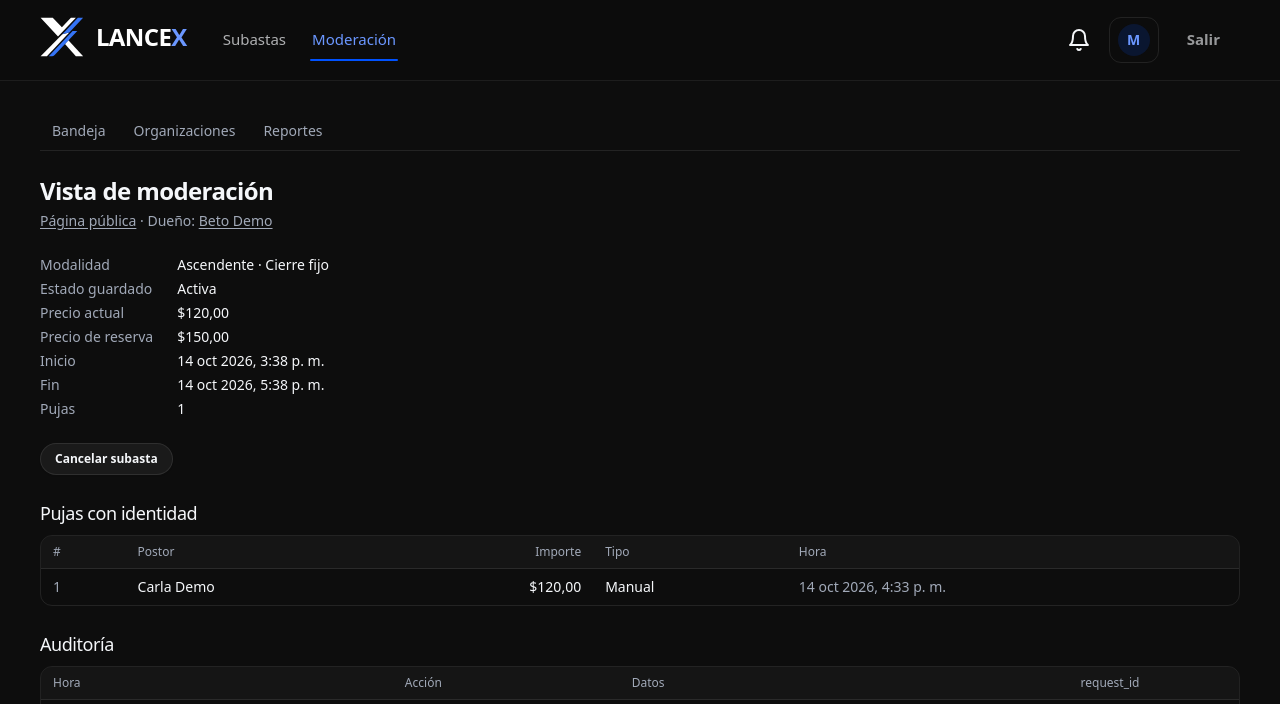
Test: moderación (LX-78) › vista de moderación: identidades, reserva, auditoría y cancelar con motivo
Check: the link "Carla Demo" is shown, box [138,577,215,596]
Check: the text "$150,00" is shown, box [177,327,229,346]
Click the button "Cancelar subasta": (106, 459) [40,443,173,475]
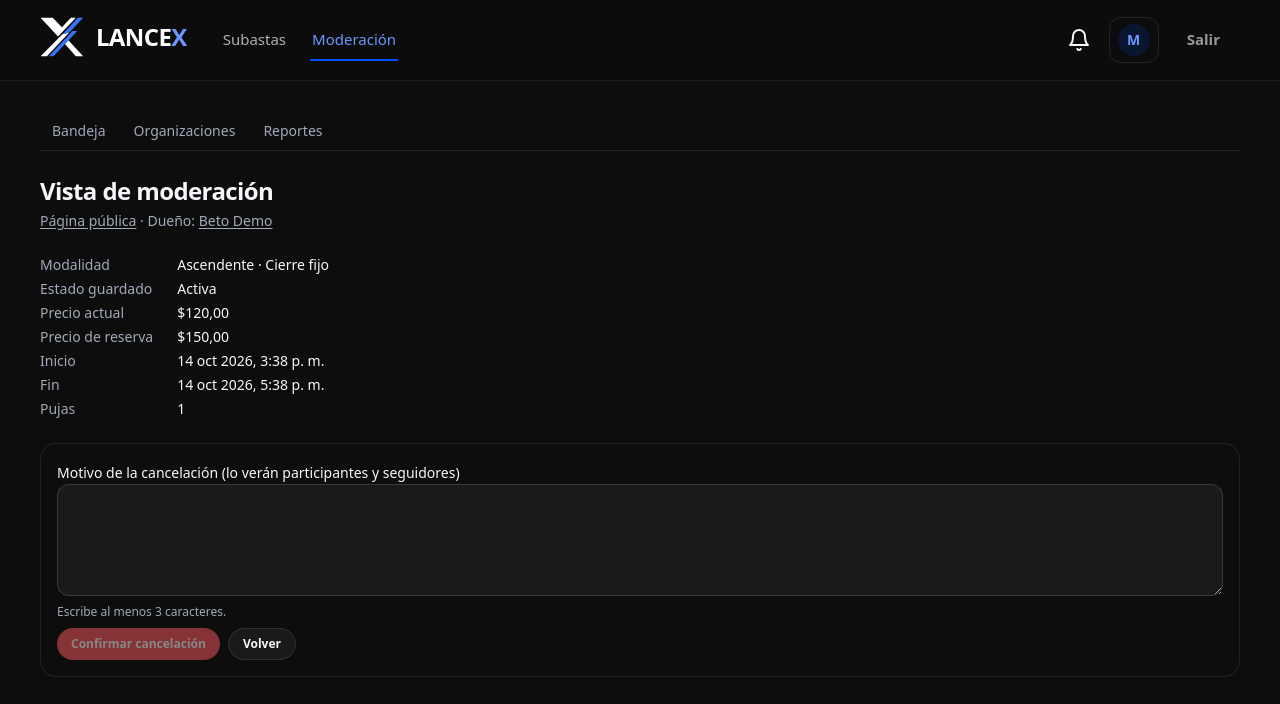
In the text box labelled "Motivo de la cancelación": (640, 540) [57,484,1223,596], type "Fraude"
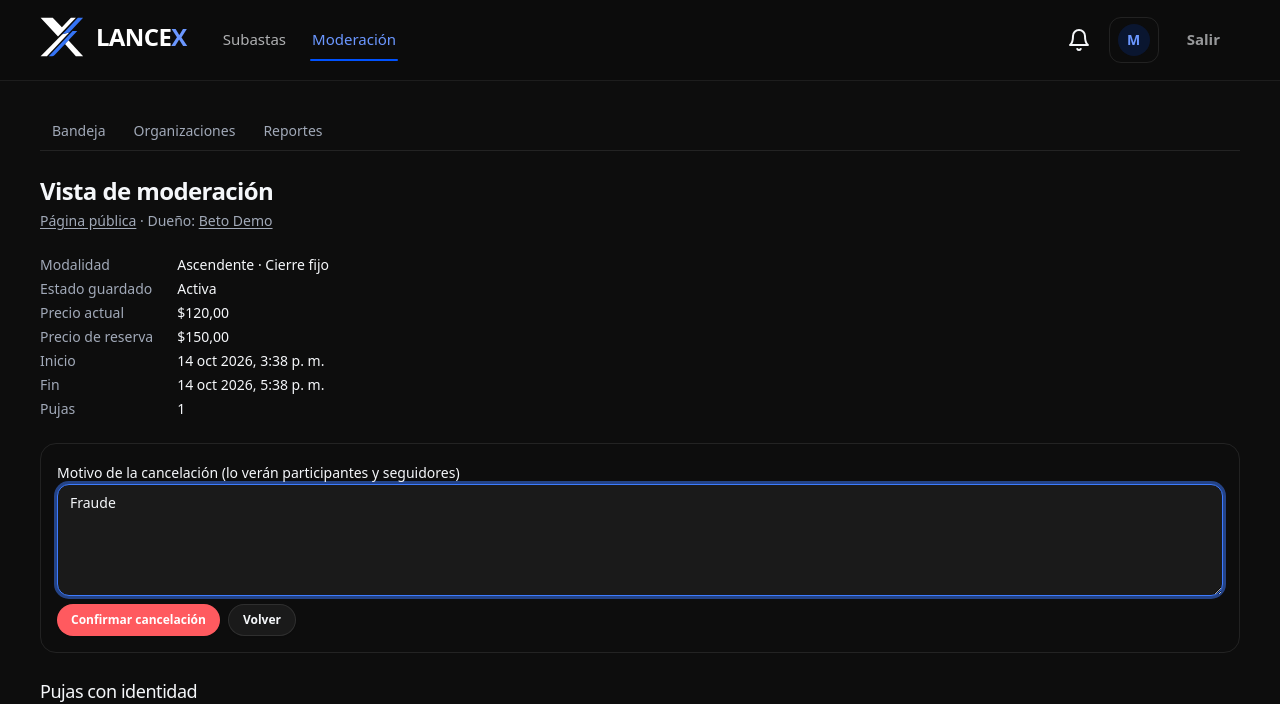
Click the button "Confirmar cancelación": (138, 620) [57,604,220,636]
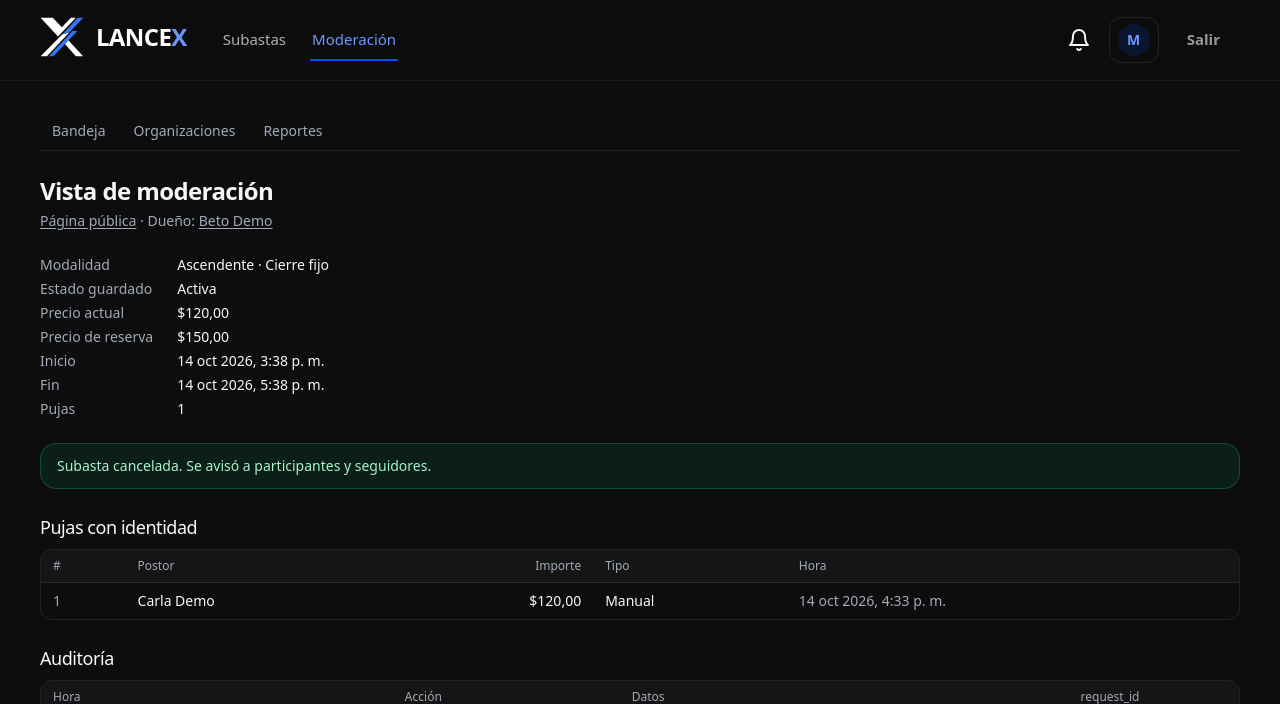
Check: the text "Subasta cancelada. Se avisó a participantes y seguidores." is shown, box [40,443,1240,489]
